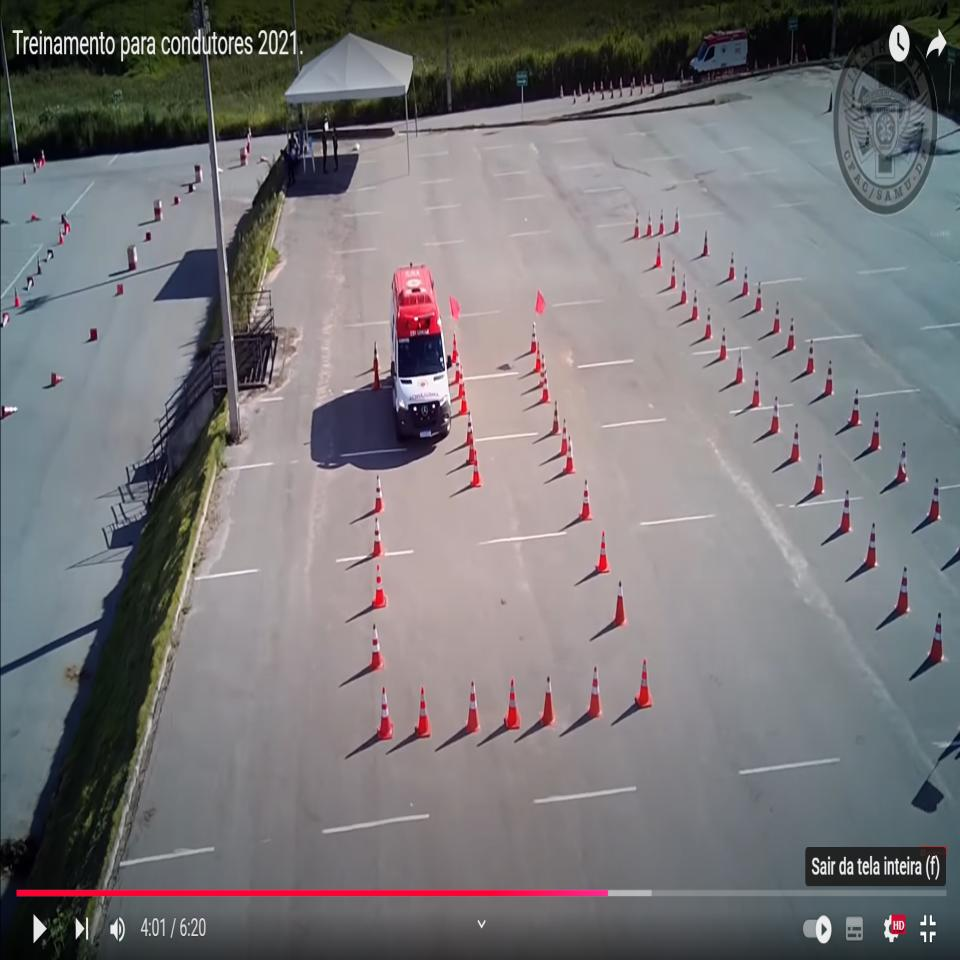bombeiro: (387, 259, 457, 445)
